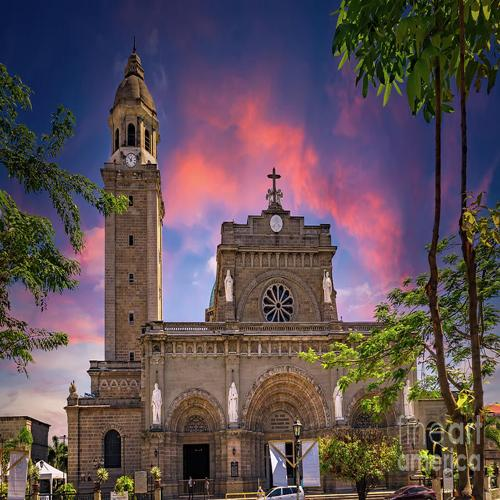Manila Cathedral Church: (56, 22, 433, 497)
